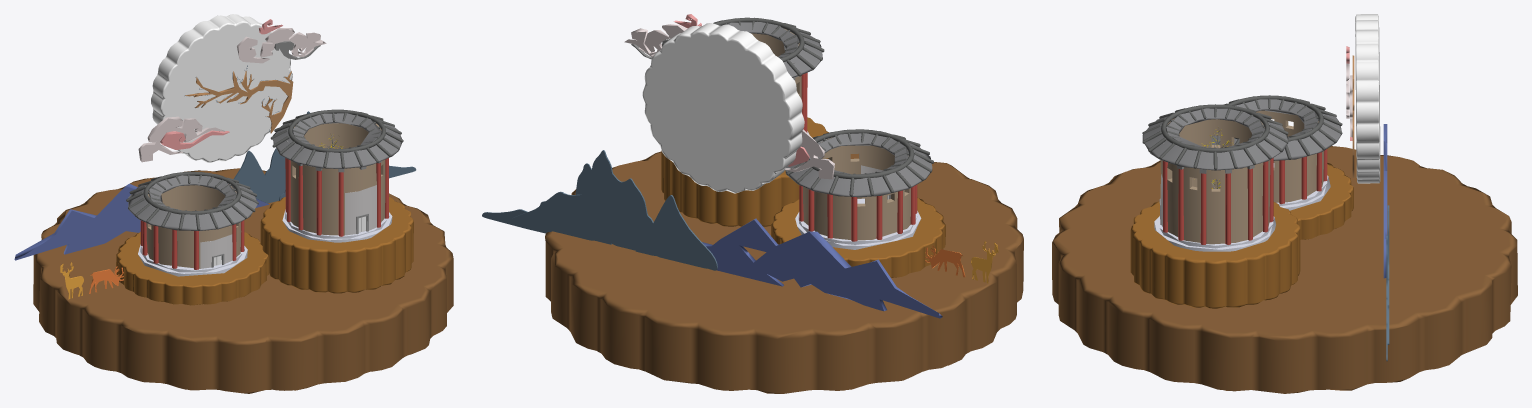
Rendered from midautumn.glb.
3 views of the same model, side by side, from view 1: azimuth 30°, elevation 25°; view 2: azimuth 150°, elevation 25°; view 3: azimuth 270°, elevation 25° (orthographic). The views are drawn at different scales.
Parts seen in each view (by area): view 1: object 15, object 16, 68045968498_Black Walnut Wood Rough_0, object 9, object 11, object 5, object 14, object 4, object 17, object 2, object 6, object 10 (+4 smaller); view 2: object 15, 68045968498_Black Walnut Wood Rough_0, object 2, object 16, object 14, object 9, object 11, object 5, object 4, object 17, object 10, object 21 (+1 smaller); view 3: object 15, object 16, object 9, object 11, object 5, 68045968498_Black Walnut Wood Rough_0, object 4, object 10, object 14, object 2, object 17.
Boxes of the visible parts, x1,y1,x2,y2 form: object 15: (33,168,453,393); object 16: (116,197,413,305); 68045968498_Black Walnut Wood Rough_0: (151,14,366,265); object 9: (146,123,385,268); object 11: (128,113,402,230); object 5: (126,109,403,230); object 14: (14,183,269,260); object 4: (140,158,388,269); object 17: (138,28,326,162); object 2: (184,65,416,203); object 6: (200,185,376,268); object 10: (138,209,392,276); object 15: (545,151,1023,393); 68045968498_Black Walnut Wood Rough_0: (642,23,888,199); object 2: (482,150,717,270); object 16: (661,117,945,277); object 14: (702,218,942,318); object 9: (751,29,910,240); object 11: (727,21,932,197); object 5: (713,17,934,196); object 4: (799,72,917,241); object 17: (624,24,834,179); object 10: (795,131,921,249); object 21: (925,245,965,277); object 15: (1052,146,1517,393); object 16: (1130,163,1353,308); object 9: (1160,110,1323,244); object 11: (1142,99,1341,170); object 5: (1142,95,1342,169); 68045968498_Black Walnut Wood Rough_0: (1355,14,1380,183); object 4: (1163,149,1327,244); object 10: (1154,163,1330,251); object 14: (1383,124,1387,278); object 2: (1386,205,1389,361); object 17: (1346,63,1352,137).
Size of the model in its own units: 32786 by 19909 by 29527.
